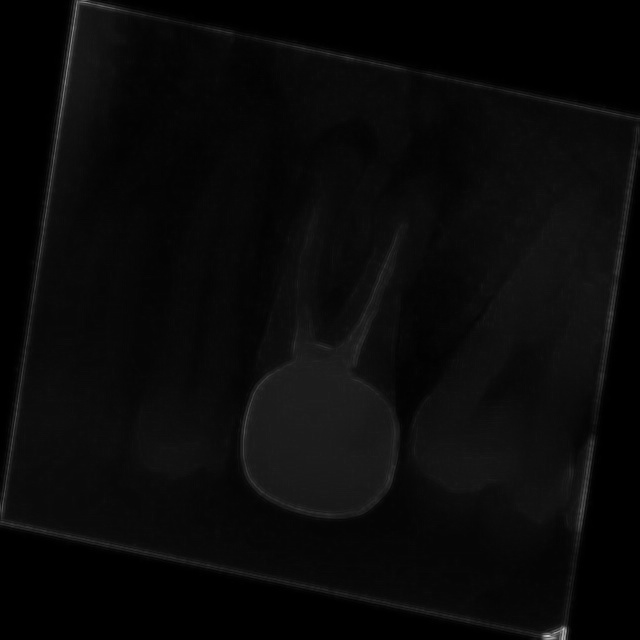Class 1- complete endodontic treatment: (200, 64, 491, 573)
cavity: (21, 47, 295, 502)
